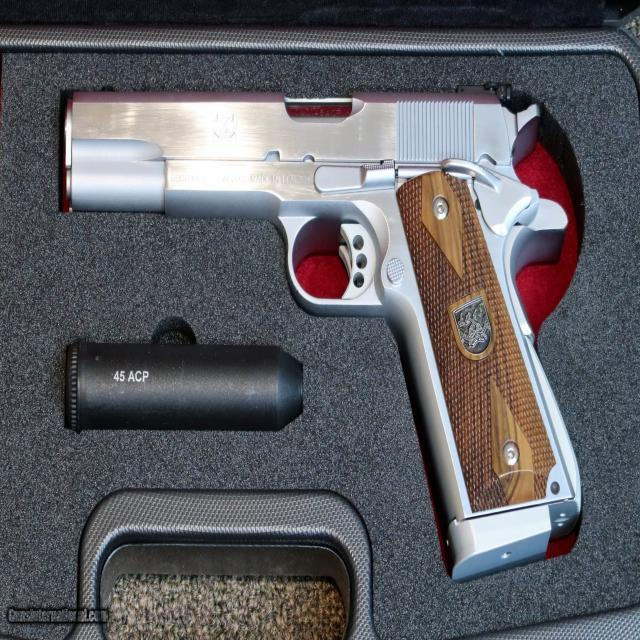Pistol: (39, 62, 602, 582)
